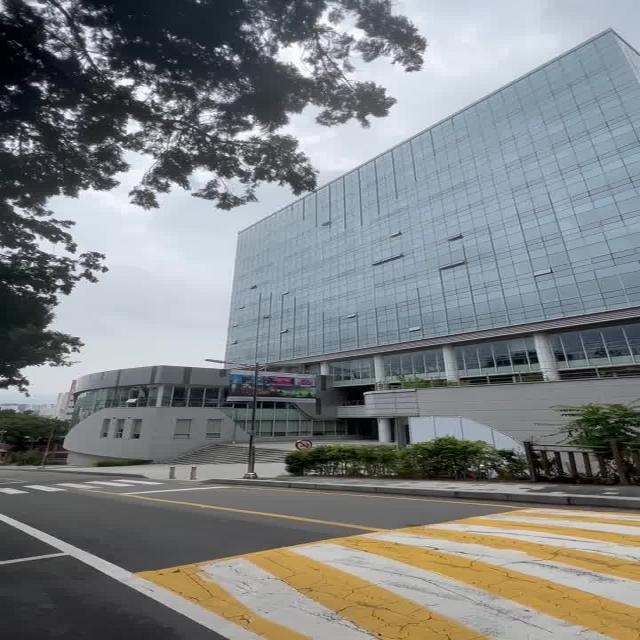building: (233, 161, 640, 380)
